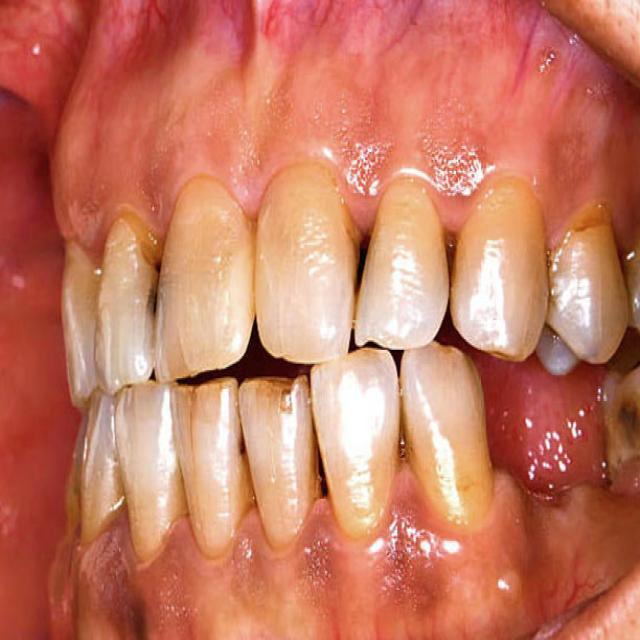caries: (346, 221, 381, 300), (436, 227, 464, 285), (308, 438, 335, 498), (142, 278, 170, 320)
